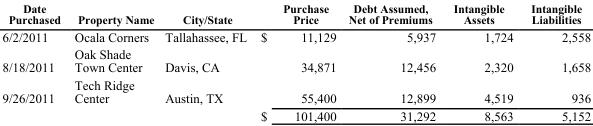table: (1, 1, 590, 122)
table column: (341, 1, 443, 122), (158, 1, 252, 122), (66, 1, 158, 122), (252, 1, 341, 122), (443, 1, 521, 122), (521, 1, 590, 122), (1, 1, 66, 122)
table column header: (1, 1, 590, 27)
table row: (1, 75, 590, 106), (1, 45, 590, 75), (1, 1, 590, 27), (1, 27, 590, 45), (1, 106, 590, 122)
table spanning cell: (1, 75, 66, 122)
